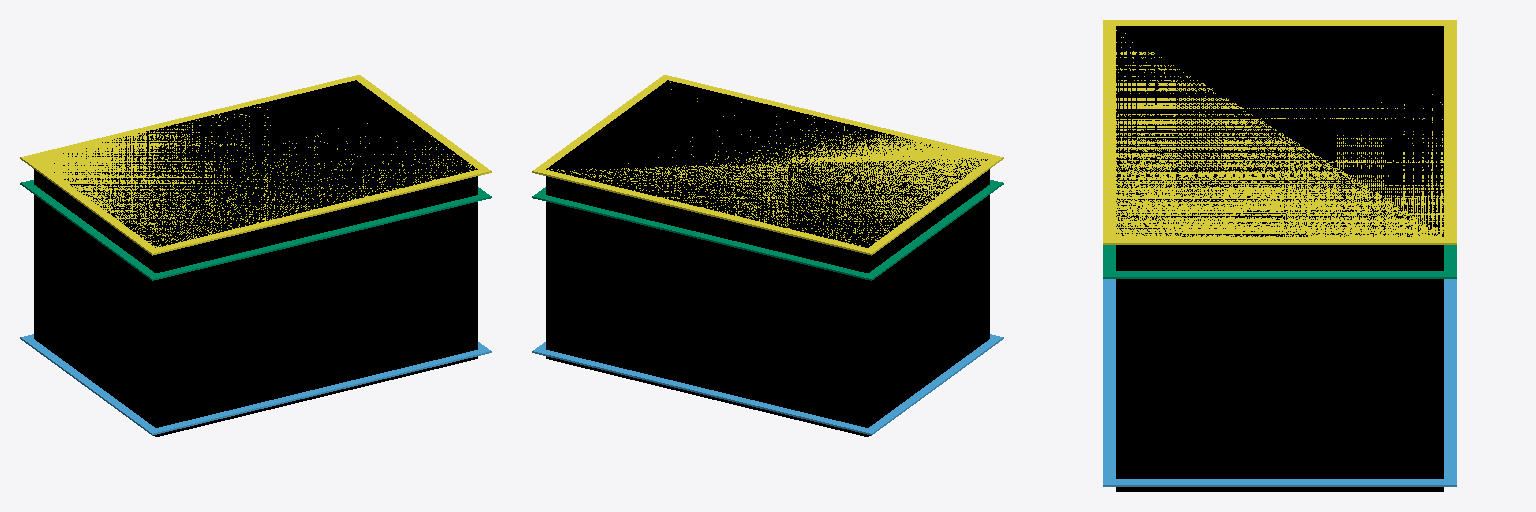
The robot description file, URDF, robot "crate":
<?xml version="1.0"?>

<robot name="crate">

  <material name="black">
    <color rgba="0 0 0 0"/>
  </material>

  <link name="walls">
    <visual>
      <geometry>
        <box size="0.57 0.374 0.32"/>
      </geometry>
      <material name="black"/>
      <origin xyz="0 0 0.16"/>
    </visual>
  </link>

  <link name="bottom_edge">
    <visual>
      <geometry>
        <box size="0.60 0.404 0.003"/>
      </geometry>
      <origin xyz="0 0 0.01415"/>
    </visual>
  </link>

  <joint name="base_to_wall" type="fixed">
    <parent link="walls"/>
    <child link="bottom_edge"/>
    <origin xyz="0 0 0"/>
  </joint>

  27.4
  <link name="middle_edge">
    <visual>
      <geometry>
        <box size="0.60 0.404 0.003"/>
      </geometry>
      <origin xyz="0 0 0.2755"/>
    </visual>
  </link>

  <joint name="middle_edge_to_wall" type="fixed">
    <parent link="walls"/>
    <child link="middle_edge"/>
    <origin xyz="0 0 0"/>
  </joint>

  <link name="top_edge">
    <visual>
      <geometry>
        <box size="0.60 0.404 0.003"/>
      </geometry>
      <origin xyz="0 0 0.3185"/>
    </visual>
  </link>

  <joint name="top_edge_to_wall" type="fixed">
    <parent link="walls"/>
    <child link="top_edge"/>
    <origin xyz="0 0 0"/>
  </joint>

</robot>
				

--- Render facts (derived) ---
Views: 3 orthographic renders of the robot side by side, from view 1: azimuth 30°, elevation 25°; view 2: azimuth 150°, elevation 25°; view 3: azimuth 270°, elevation 25°.
Robot: crate — 4 links, 3 joints (3 fixed); root link walls; default pose: every joint at zero.
Visible links, largest first — view 1: walls, top_edge, bottom_edge, middle_edge; view 2: walls, top_edge, bottom_edge, middle_edge; view 3: walls, top_edge, bottom_edge, middle_edge.
Link boxes in pixels (x1,y1,x2,y2): walls: (34, 80, 477, 436); top_edge: (20, 75, 491, 255); bottom_edge: (20, 334, 491, 435); middle_edge: (20, 180, 491, 280); walls: (546, 80, 989, 436); top_edge: (532, 75, 1003, 255); bottom_edge: (532, 334, 1003, 435); middle_edge: (532, 180, 1003, 280); walls: (1116, 26, 1443, 491); top_edge: (1103, 20, 1456, 244); bottom_edge: (1103, 279, 1456, 486); middle_edge: (1103, 245, 1456, 278).
Bounding box of the posed robot: 0.6 × 0.404 × 0.32 m (x, y, z).
Geometry: primitives only (box / cylinder / sphere), no mesh files.